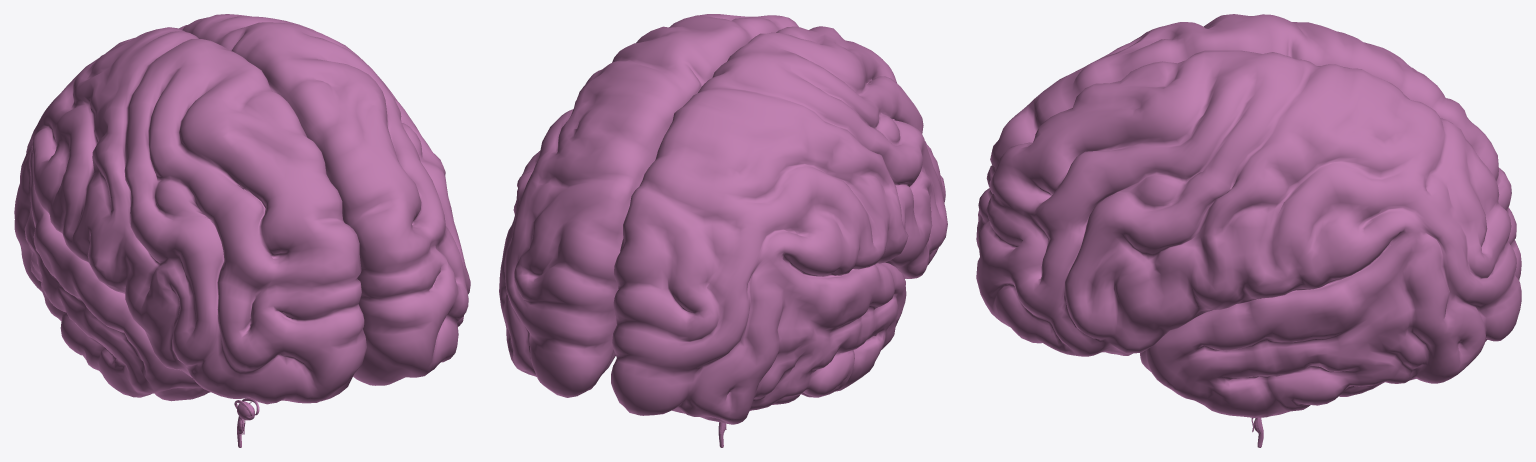
The model's file is Colo_2.glb.
The picture shows the model from 3 angles, left to right: view 1: azimuth 30°, elevation 25°; view 2: azimuth 150°, elevation 25°; view 3: azimuth 270°, elevation 25°; orthographic projection.
Visible parts, largest first — view 1: V1_1:jianmian_03:Group1; view 2: V1_1:jianmian_03:Group1; view 3: V1_1:jianmian_03:Group1.
Boxes of the visible parts, x1,y1,x2,y2 form: V1_1:jianmian_03:Group1: (14,14,470,404); V1_1:jianmian_03:Group1: (499,14,947,424); V1_1:jianmian_03:Group1: (976,14,1521,417).
Size of the model in its own units: 1.28 by 1.5 by 1.81.
